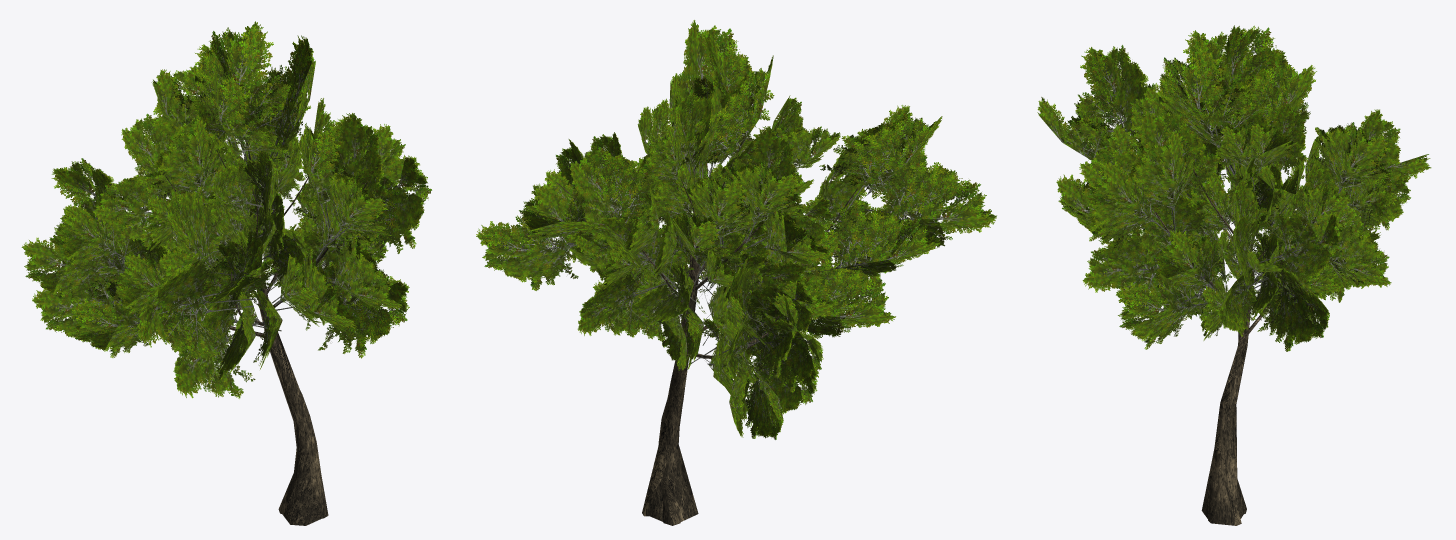
The model's file is genericTree_01.dae.
The picture shows the model from 3 angles, left to right: view 1: azimuth 30°, elevation 25°; view 2: azimuth 150°, elevation 25°; view 3: azimuth 270°, elevation 25°; orthographic projection. The views are drawn at different scales.
Parts seen in each view (by area): view 1: genericTreeOne256, genericTreeOne128, genericTreeOne64; view 2: genericTreeOne256, genericTreeOne128, genericTreeOne64; view 3: genericTreeOne256, genericTreeOne128, genericTreeOne64.
Part boxes in pixels (x1,y1,x2,y2): genericTreeOne256: (23, 26, 431, 525); genericTreeOne128: (21, 67, 422, 525); genericTreeOne64: (32, 21, 431, 397); genericTreeOne256: (476, 22, 995, 525); genericTreeOne128: (480, 76, 945, 521); genericTreeOne64: (482, 20, 996, 521); genericTreeOne256: (1037, 25, 1427, 525); genericTreeOne128: (1039, 74, 1431, 525); genericTreeOne64: (1058, 26, 1418, 524).
Size of what is drawn, in the model's own units: 9.42 by 9.01 by 11.44.
